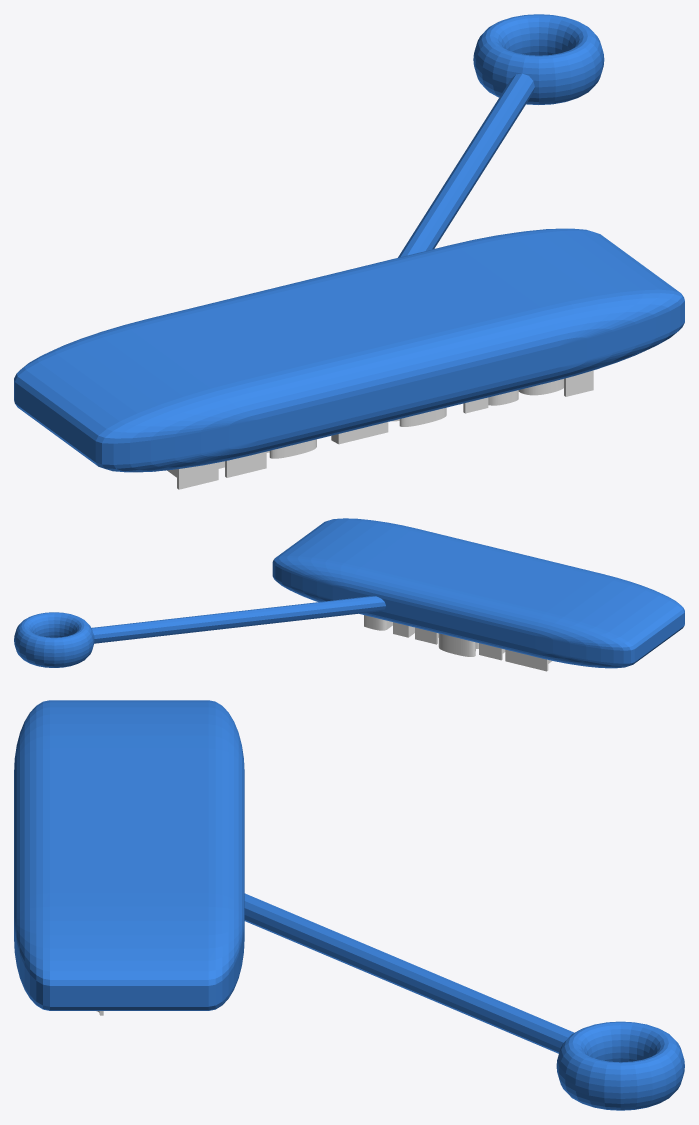
The model's file is hazard.obj.
3 views of the same model, one above another, from view 1: azimuth 30°, elevation 25°; view 2: azimuth 150°, elevation 25°; view 3: azimuth 270°, elevation 25° (orthographic). The views are drawn at different scales.
Visible parts, largest first — view 1: group_0_3836137, group_0_16448250; view 2: group_0_3836137, group_0_16448250; view 3: group_0_3836137.
Part boxes in pixels (x1,y1,x2,y2): group_0_3836137: (14, 14, 684, 472); group_0_16448250: (154, 370, 593, 489); group_0_3836137: (14, 518, 684, 668); group_0_16448250: (364, 615, 551, 671); group_0_3836137: (14, 700, 684, 1110).
Bounding box in the file's own units: 34.86 × 4.2 × 26.13.
